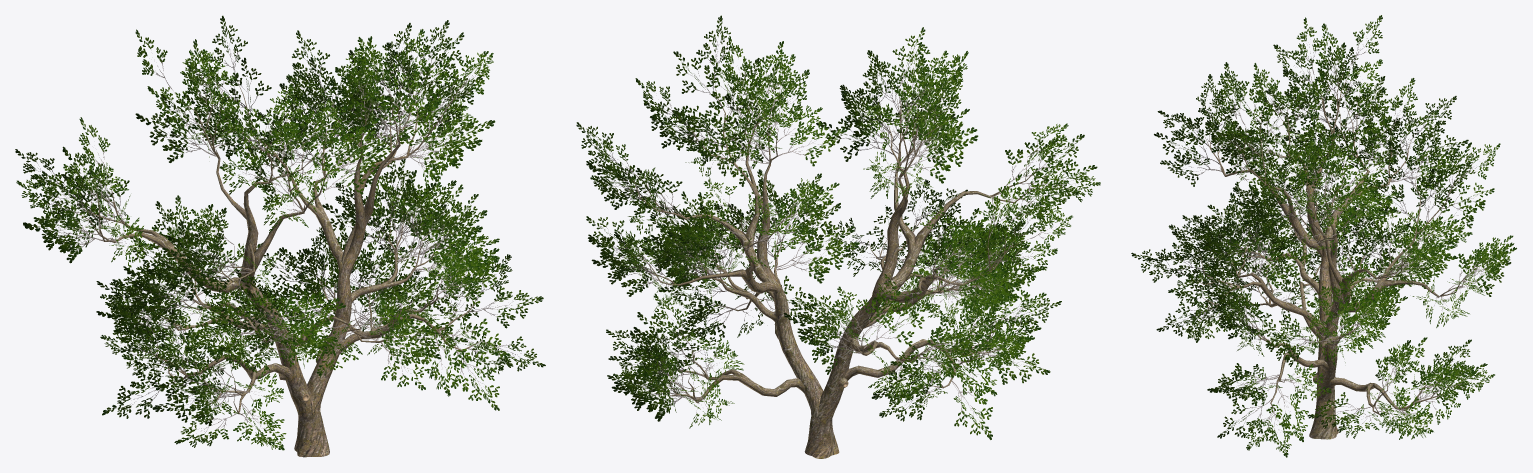
The model's file is Oakseventy.obj.
3 renders of one model, left to right at view 1: azimuth 30°, elevation 25°; view 2: azimuth 150°, elevation 25°; view 3: azimuth 270°, elevation 25°, orthographic. The views are drawn at different scales.
Visible parts, largest first — view 1: oak leaf, mossybark02; view 2: oak leaf, mossybark02; view 3: oak leaf, mossybark02.
Boxes of the visible parts, left/top/right/bottom form: oak leaf: left=15, top=15, right=545, bottom=450; mossybark02: left=71, top=63, right=481, bottom=457; oak leaf: left=576, top=15, right=1100, bottom=439; mossybark02: left=625, top=83, right=1042, bottom=458; oak leaf: left=1131, top=15, right=1516, bottom=457; mossybark02: left=1185, top=60, right=1469, bottom=439.
Bounding box in the file's own units: 1064 × 925 × 883.
3 materials, 3 textured.
